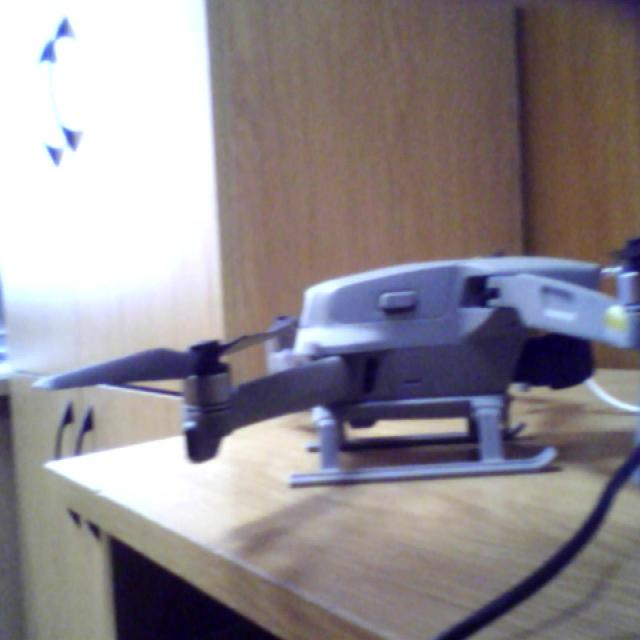drone: (72, 239, 640, 517)
